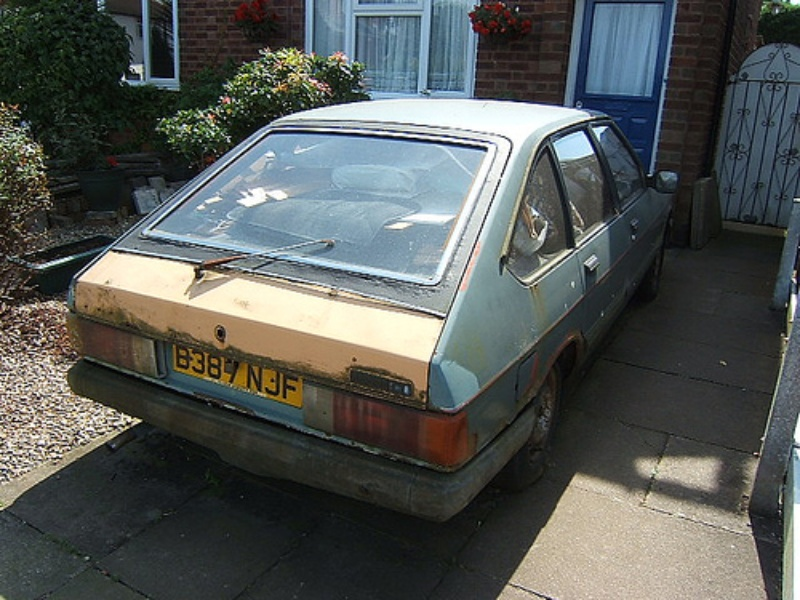car: (66, 97, 679, 521)
